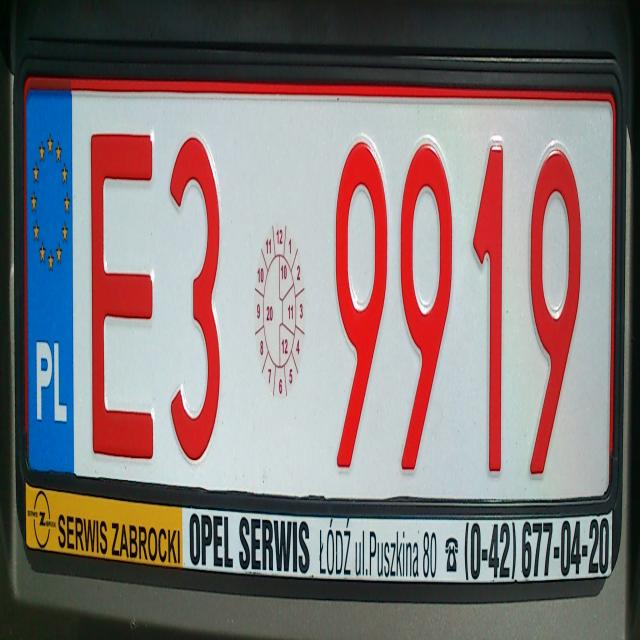pl_license_plate: (26, 87, 613, 508)
